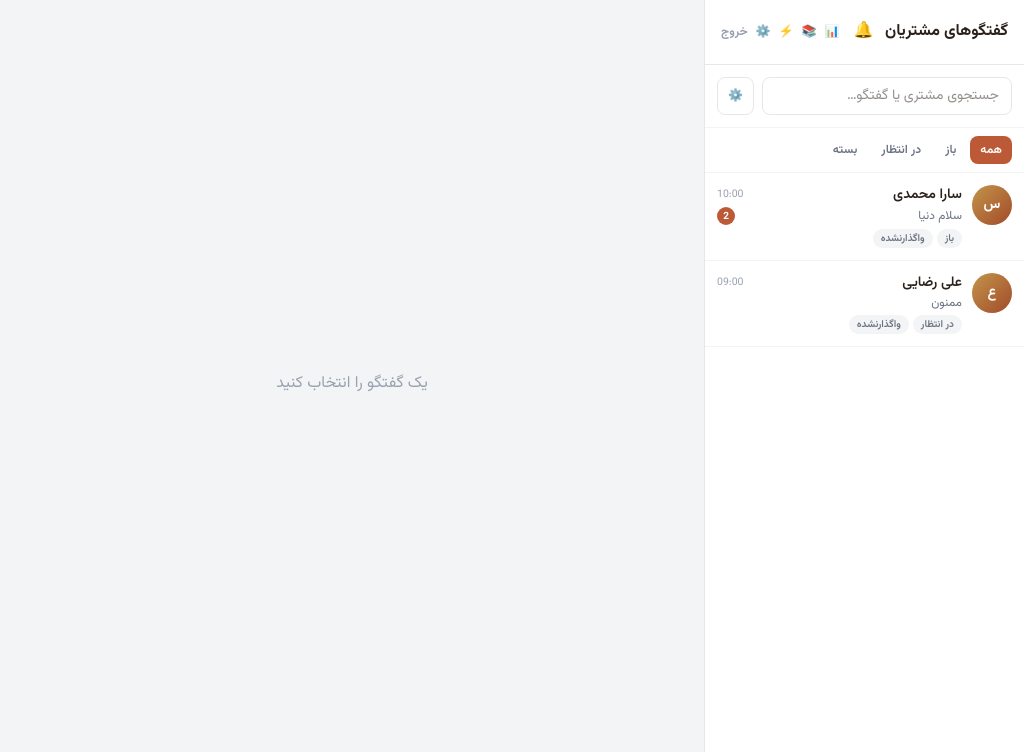
Test: Operator dashboard — customer conversations page › voice recording › shows an inline toast instead of alert() when microphone access is denied
Click the text "سارا محمدی".
click(928, 195)  # box [893, 185, 962, 205]
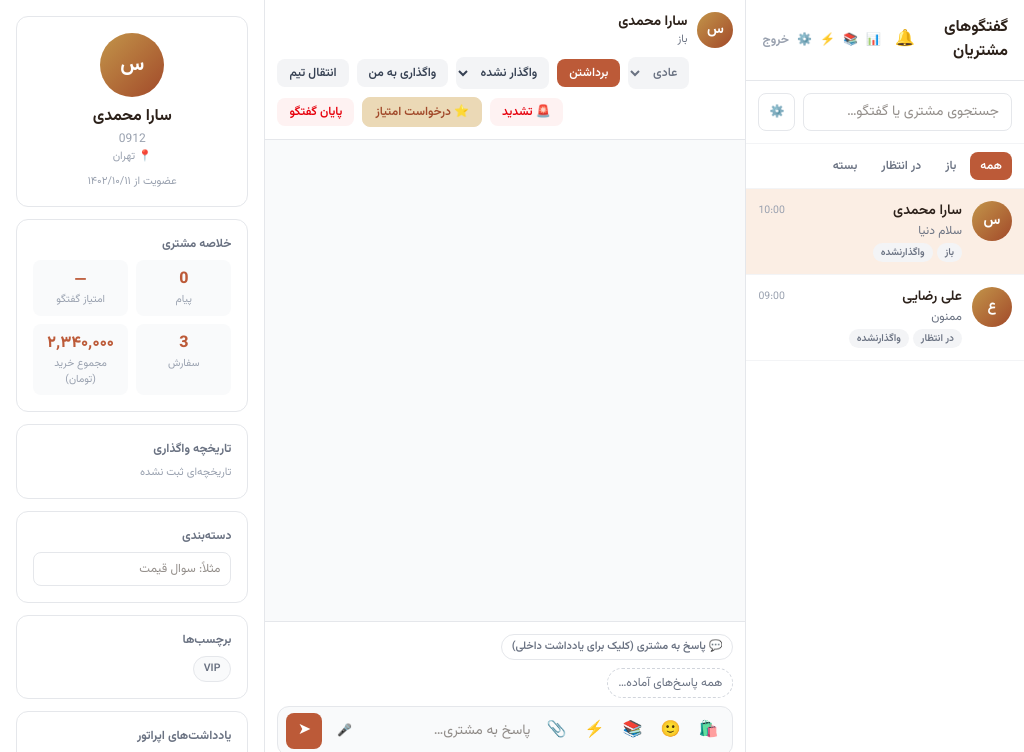
Click the button titled "پیام صوتی".
click(344, 731)  # box [328, 715, 360, 747]
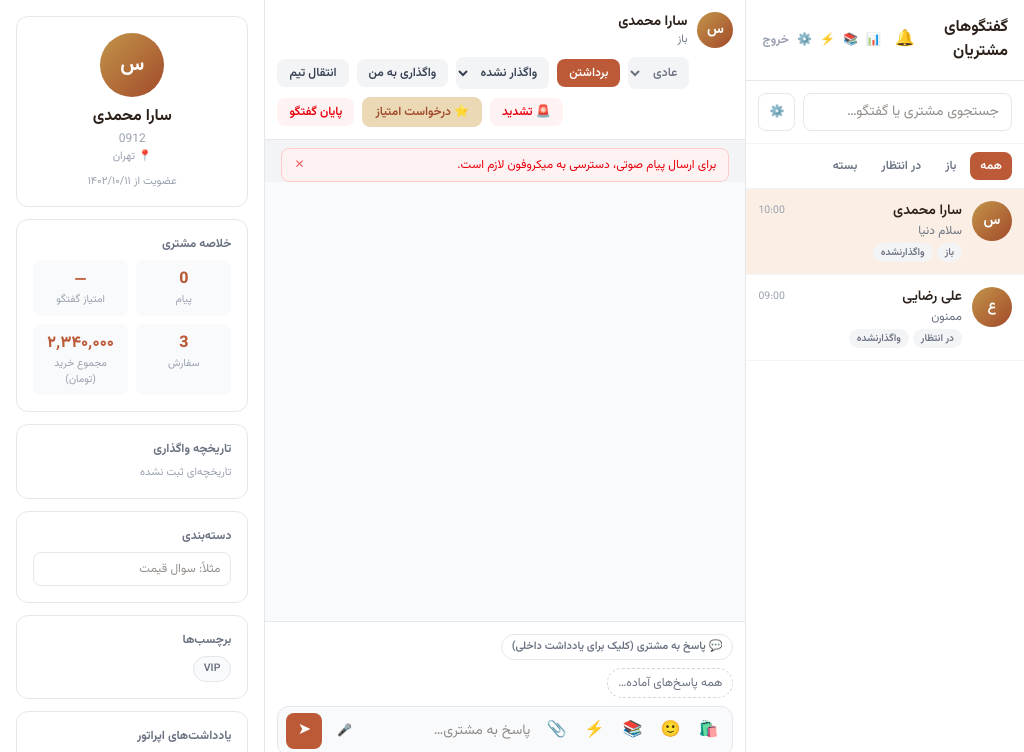
Expected: the text "برای ارسال پیام صوتی، دسترسی به میکروفون لازم است." is shown, [457, 156, 716, 172]
